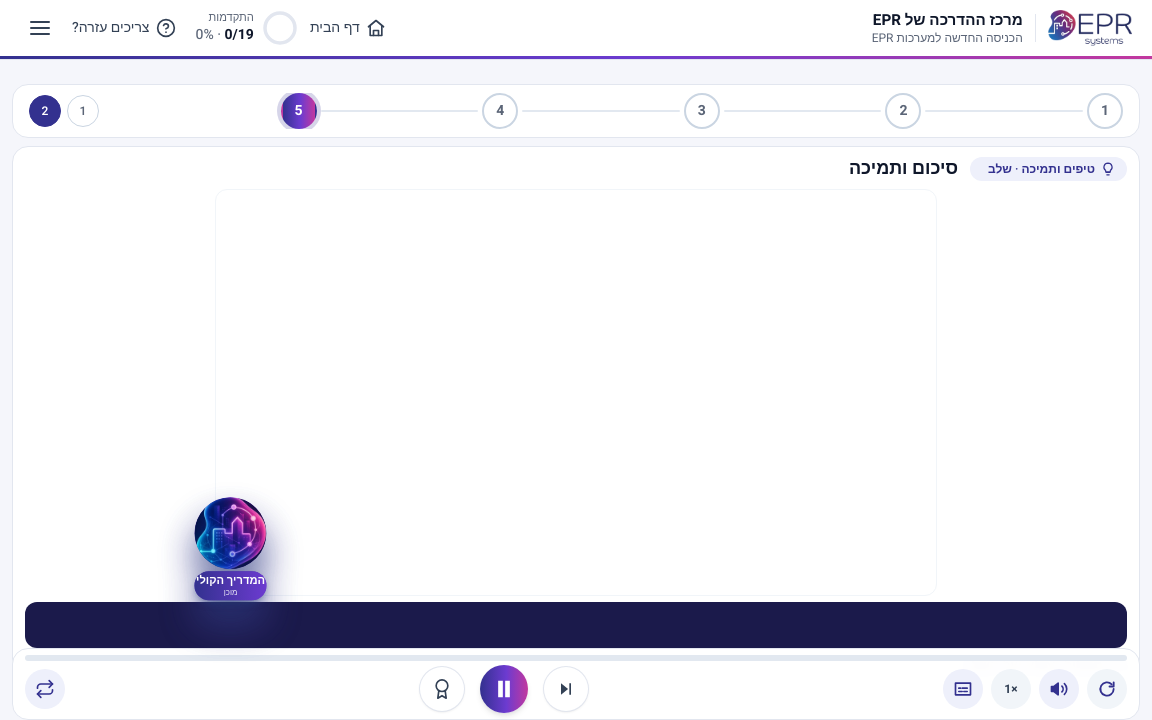
App › shows the finish label on the last step and marks it done
Click the button named "סיום ההדרכה" at {"x": 442, "y": 689}, box [420, 667, 464, 711]
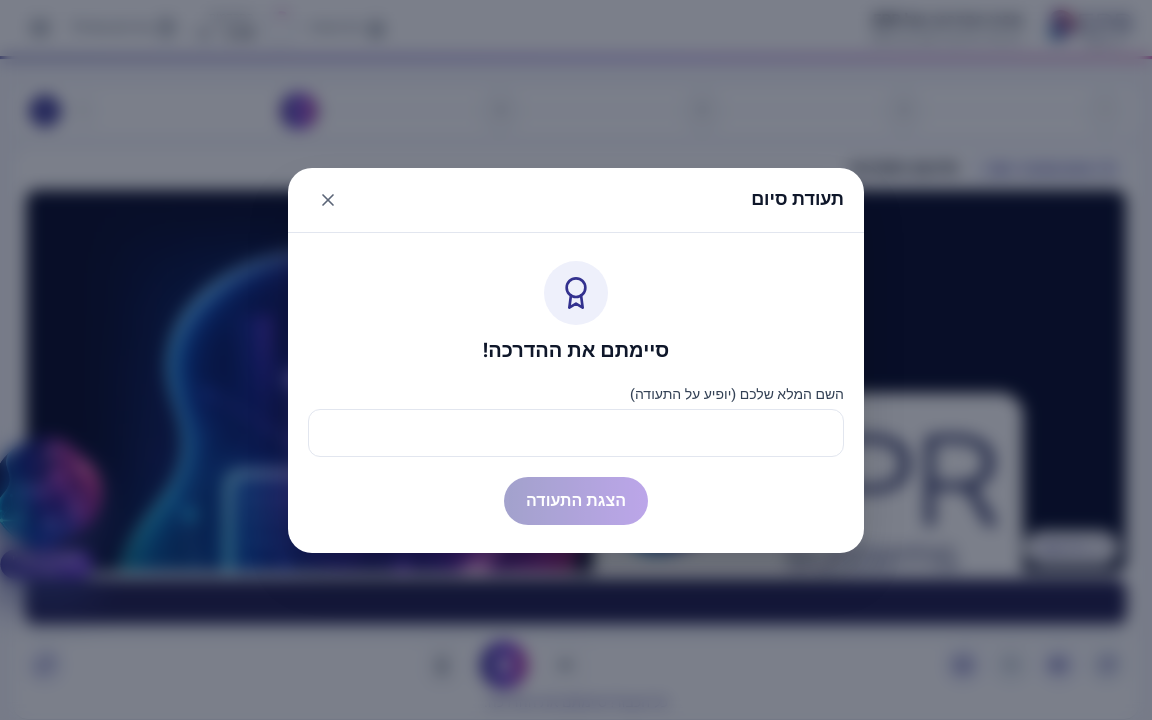
Expected: the dialog "תעודת סיום" is shown, [288, 168, 864, 552]
